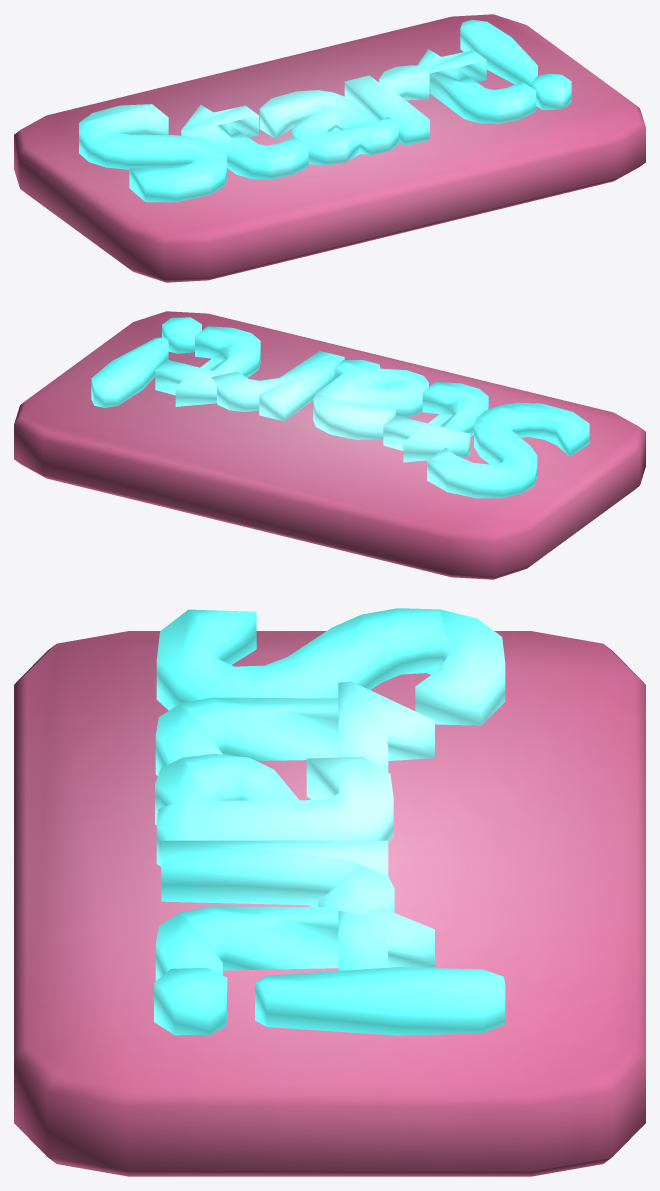
File: startButton.glb
3 views of the same model, one above another, from view 1: azimuth 30°, elevation 25°; view 2: azimuth 150°, elevation 25°; view 3: azimuth 270°, elevation 25° (orthographic). The views are drawn at different scales.
Visible parts, largest first — view 1: Cube.001, Text; view 2: Cube.001, Text; view 3: Cube.001, Text.
Part boxes in pixels (box(x1,y1,x2,y2)): Cube.001: box(14, 14, 645, 282); Text: box(79, 19, 571, 202); Cube.001: box(14, 311, 645, 579); Text: box(91, 317, 589, 498); Cube.001: box(14, 631, 645, 1176); Text: box(154, 608, 505, 1035).
Size of what is drawn, in the model's own units: 1.16 by 0.1588 by 0.6586.
2 materials, 2 textured.
